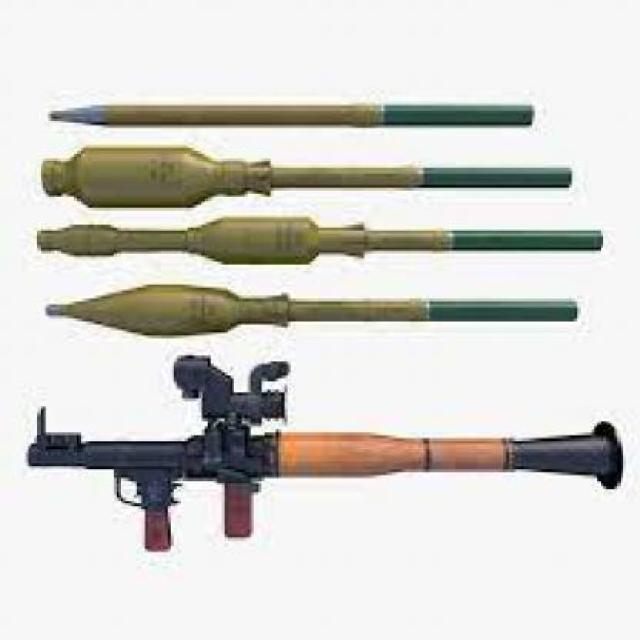weapon: (20, 346, 624, 588), (19, 280, 591, 345)
